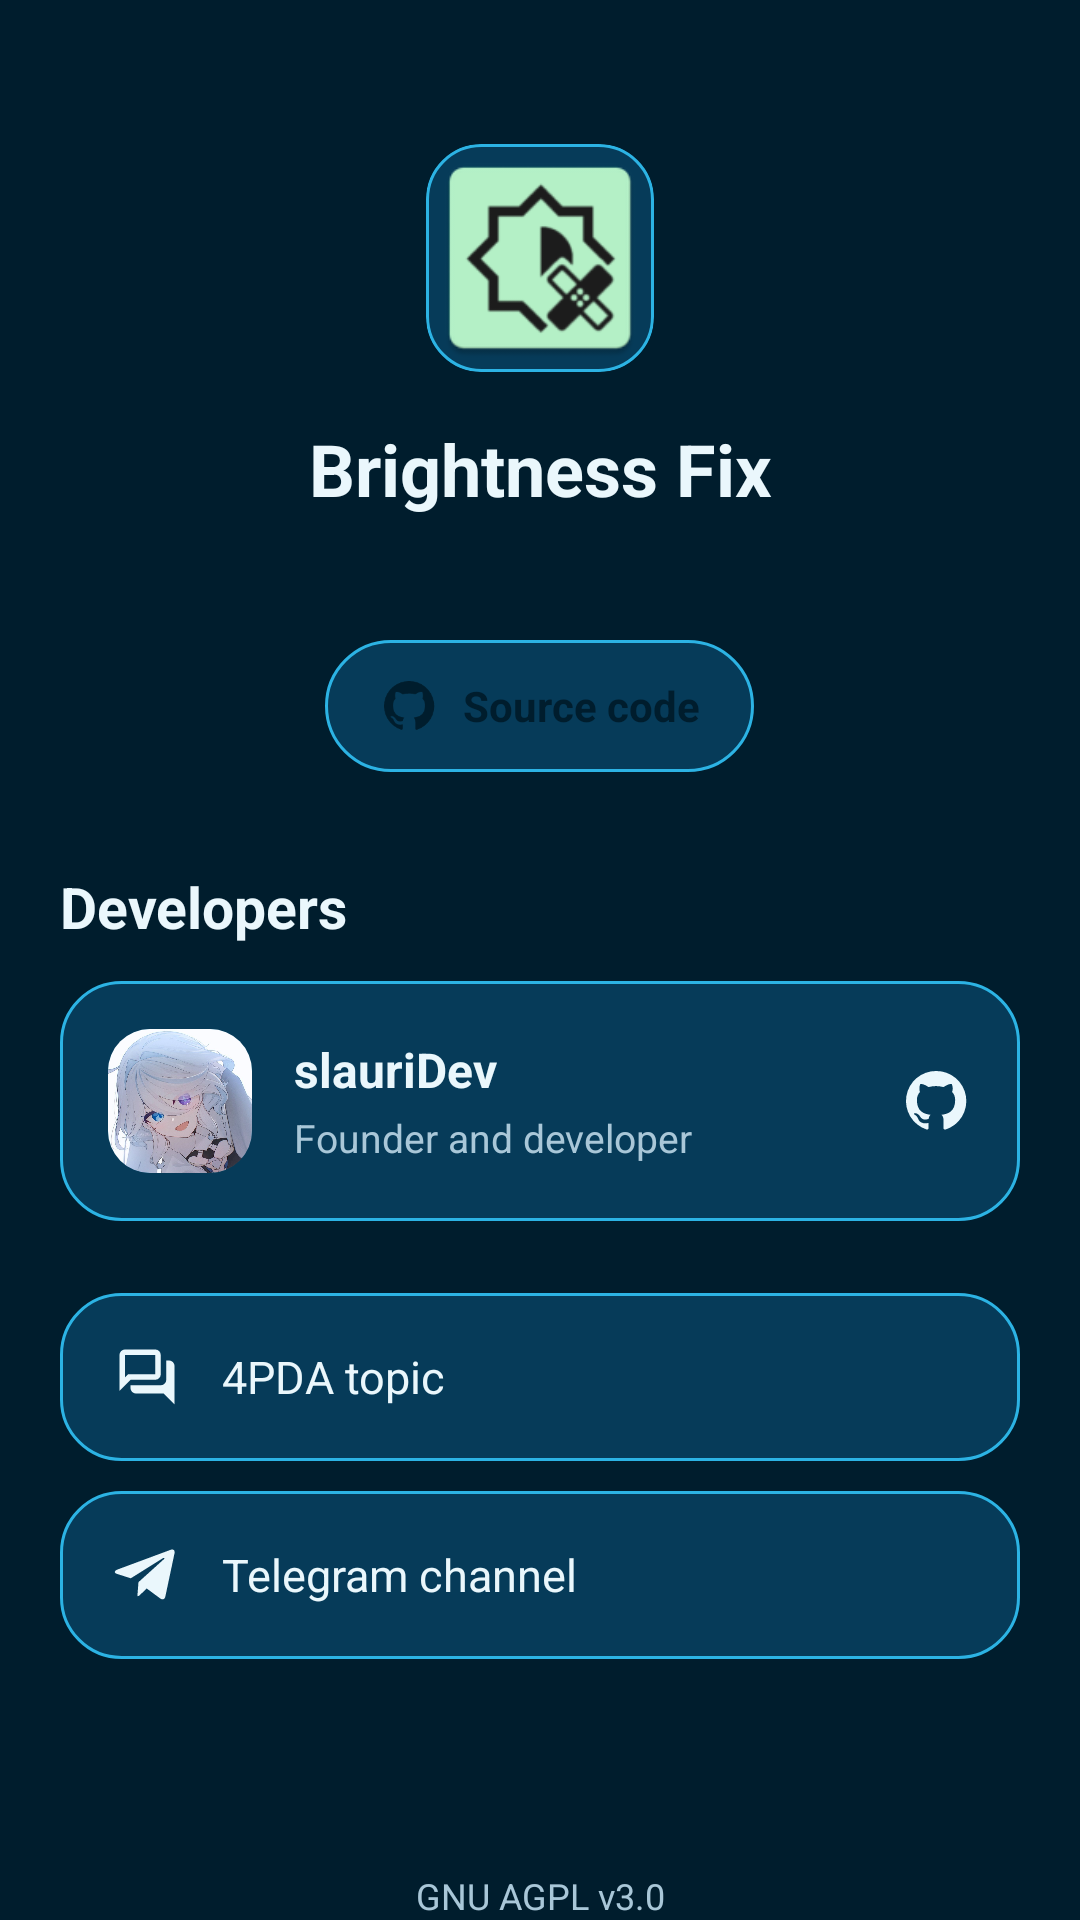

Where icons sit on this 1080 x 1920 app screen, as bbox(x1, y1, x2, y2):
forum: bbox(119, 1349, 175, 1404)
